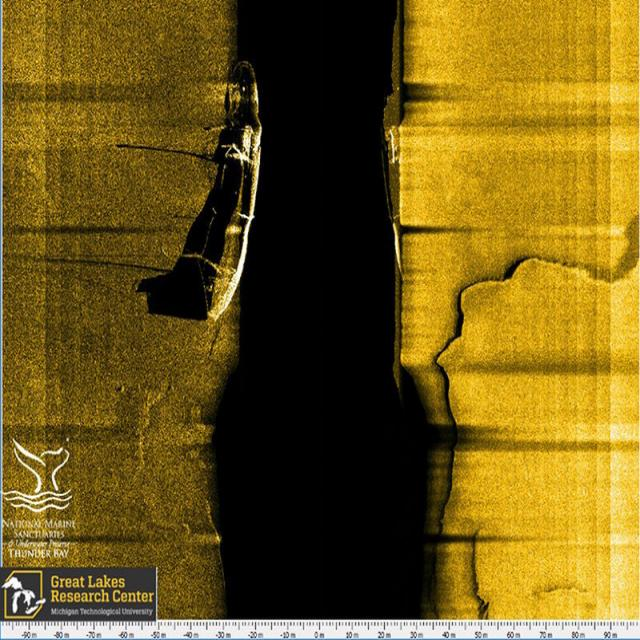ship: (193, 56, 262, 319)
